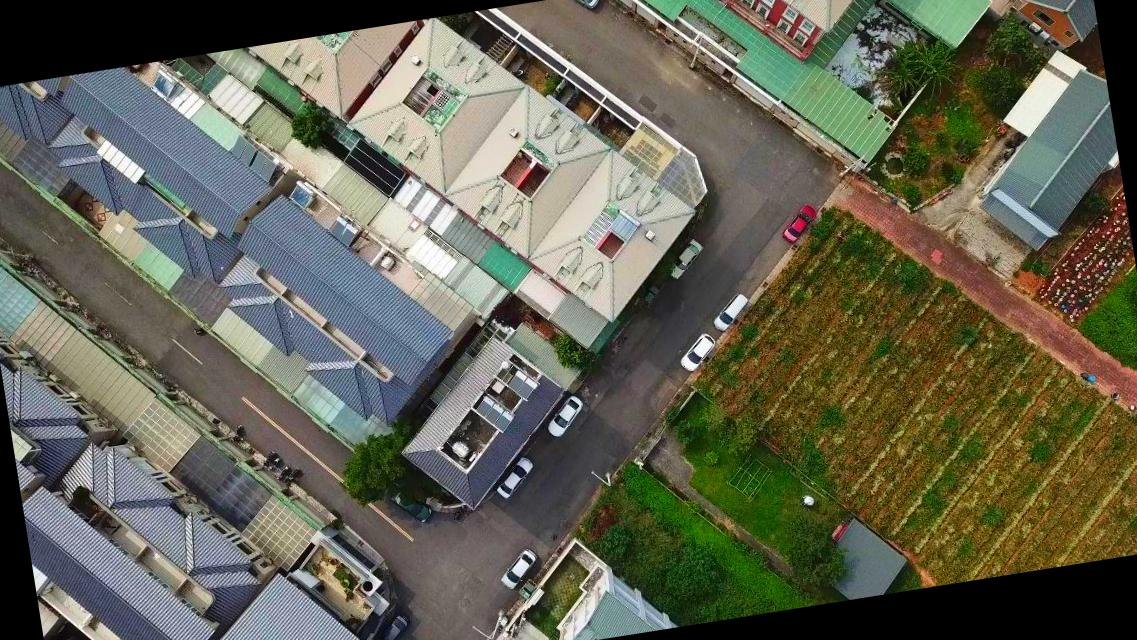vehicle: (544, 391, 588, 439), (778, 202, 825, 245), (492, 454, 536, 498), (496, 547, 542, 589), (392, 485, 435, 528), (676, 332, 720, 374), (664, 236, 707, 278), (712, 294, 750, 330), (573, 0, 601, 13)
